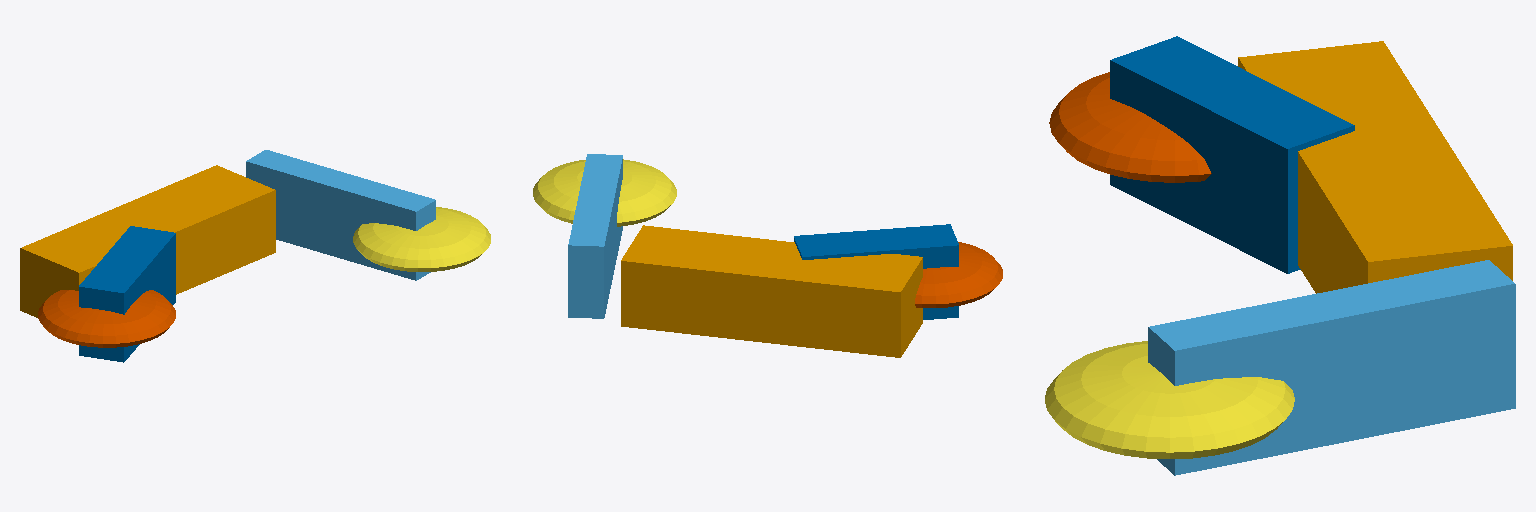
robot.urdf — sttw_source_contract:
<robot name="sttw_source_contract"><link name="chasis"><inertial><origin xyz="0 0 0" rpy="0 0 0" /><mass value="2.6709" /><inertia ixx="0.002576899237716139" iyy="0.006717399205490904" izz="0.007323301556792965" ixy="-0.0010382994717121627" ixz="-6.738700644442851e-05" iyz="-2.9357445489999094e-05" /></inertial><collision><origin xyz="0 0.01 0" rpy="0 -0 0.26200065305629355" /><geometry><box size="0.40000000000000002 0.12 0.10000000000000001" /></geometry></collision><visual><origin xyz="0 0.01 0" rpy="0 -0 0.26200065305629355" /><geometry><box size="0.40000000000000002 0.12 0.10000000000000001" /></geometry></visual></link><link name="frontfork"><inertial><origin xyz="0.015592999999999999 -0.028725000000000001 0" rpy="0 0 0" /><mass value="0.60059" /><inertia ixx="0.0006527803125101705" iyy="0.00031547968748982914" izz="0.0004482599999999998" ixy="3.1108087729306906e-06" ixz="0.0" iyz="0.0" /></inertial><collision><origin xyz="0.02 -0.059999999999999998 0" rpy="0 -0 0" /><geometry><box size="0.050000000000000003 0.29999999999999999 0.11" /></geometry></collision><visual><origin xyz="0.02 -0.059999999999999998 0" rpy="0 -0 0" /><geometry><box size="0.050000000000000003 0.29999999999999999 0.11" /></geometry></visual></link><joint name="steering_joint" type="revolute"><parent link="chasis" /><child link="frontfork" /><origin xyz="0.25737845898069134 0.020893999999999999 0" rpy="0 -0 0.43632916471688082" /><axis xyz="0 1 0" /><limit effort="1000" velocity="1000" lower="-0.8" upper="0.8" /><dynamics damping="0" friction="0" /></joint><link name="frontsuspension"><inertial><origin xyz="0 0.012836 0" rpy="0 0 0" /><mass value="0.13737" /><inertia ixx="6.8261e-05" iyy="6.1561e-05" izz="1.4167e-05" ixy="0.0" ixz="0.0" iyz="0.0" /></inertial><collision><origin xyz="0 0.02 0" rpy="0 -0 0" /><geometry><box size="0.029999999999999999 0.050000000000000003 0.10000000000000001" /></geometry></collision><visual><origin xyz="0 0.02 0" rpy="0 -0 0" /><geometry><box size="0.029999999999999999 0.050000000000000003 0.10000000000000001" /></geometry></visual></link><joint name="frontsuspension_fixed" type="fixed"><parent link="frontfork" /><child link="frontsuspension" /><origin xyz="0.02 -0.20268 0" rpy="0 -0 0" /></joint><link name="frontwheel"><inertial><origin xyz="0 0 0" rpy="0 0 0" /><mass value="0.47237" /><inertia ixx="0.0010678" iyy="0.0010677" izz="0.002032" ixy="0.0" ixz="0.0" iyz="0.0" /></inertial><collision><origin xyz="0 0 0" rpy="0 -0 0" /><geometry><mesh filename="ellipsoid_0.1_0.1_0.025.obj" /></geometry></collision><visual><origin xyz="0 0 0" rpy="0 -0 0" /><geometry><mesh filename="ellipsoid_0.1_0.1_0.025.obj" /></geometry></visual></link><joint name="frontwheel_joint" type="continuous"><parent link="frontsuspension" /><child link="frontwheel" /><origin xyz="0 0 0" rpy="0 0 -0.43632916471688082" /><axis xyz="0 0 1" /><limit effort="1000" velocity="1000" /><dynamics damping="0" friction="0" /></joint><link name="rearsuspension"><inertial><origin xyz="-0.11047 -0.091964000000000004 0" rpy="0 0 0" /><mass value="0.83342" /><inertia ixx="0.000932891239514924" iyy="0.001050602340954752" izz="0.001595099419530325" ixy="-0.0005954418866728583" ixz="4.176125784751369e-07" iyz="3.218152647424885e-07" /></inertial><collision><origin xyz="-0.080000000000000002 -0.070000000000000007 0" rpy="0 -0 0.7000001648141263" /><geometry><box size="0.22 0.070000000000000007 0.11" /></geometry></collision><visual><origin xyz="-0.080000000000000002 -0.070000000000000007 0" rpy="0 -0 0.7000001648141263" /><geometry><box size="0.22 0.070000000000000007 0.11" /></geometry></visual></link><joint name="rearsuspension_joint" type="revolute"><parent link="chasis" /><child link="rearsuspension" /><origin xyz="-0.020438000000000001 -0.034414 0" rpy="0 -0 0" /><axis xyz="0 0 1" /><limit effort="1000" velocity="1000" lower="-0.05" upper="0.05" /><dynamics damping="0" friction="0" /></joint><link name="rearwheel"><inertial><origin xyz="0 0 0" rpy="0 0 0" /><mass value="0.71956" /><inertia ixx="0.0011423999999999996" iyy="0.0011425999999999995" izz="0.002173799999999999" ixy="0.0" ixz="0.0" iyz="0.0" /></inertial><collision><origin xyz="0 0 0" rpy="0 -0 0" /><geometry><mesh filename="ellipsoid_0.1_0.1_0.025.obj" /></geometry></collision><visual><origin xyz="0 0 0" rpy="0 -0 0" /><geometry><mesh filename="ellipsoid_0.1_0.1_0.025.obj" /></geometry></visual></link><joint name="rearwheel_joint" type="continuous"><parent link="rearsuspension" /><child link="rearwheel" /><origin xyz="-0.14050000000000001 -0.11609 0" rpy="0 -0 0" /><axis xyz="0 0 1" /><limit effort="1000" velocity="1000" /><dynamics damping="0" friction="0" /></joint></robot>

--- Render facts (derived) ---
3 views of the same robot in one strip: view 1: azimuth 30°, elevation 25°; view 2: azimuth 150°, elevation 25°; view 3: azimuth 270°, elevation 25° (orthographic).
Robot: sttw_source_contract — 6 links, 5 joints (2 revolute, 2 continuous, 1 fixed); root link chasis; default pose: all joints at 0.
Visible links, largest first — view 1: chasis, frontfork, rearsuspension, frontwheel, rearwheel; view 2: chasis, frontfork, rearsuspension, frontwheel, rearwheel; view 3: frontfork, chasis, rearsuspension, frontwheel, rearwheel.
Link boxes in pixels (x1,y1,x2,y2): chasis: [20, 165, 275, 317]; frontfork: [246, 150, 435, 280]; rearsuspension: [79, 226, 175, 362]; frontwheel: [353, 207, 490, 271]; rearwheel: [38, 290, 175, 347]; chasis: [621, 225, 922, 357]; frontfork: [568, 154, 622, 318]; rearsuspension: [794, 224, 958, 319]; frontwheel: [533, 159, 676, 226]; rearwheel: [915, 242, 1002, 307]; frontfork: [1148, 260, 1515, 475]; chasis: [1238, 41, 1512, 293]; rearsuspension: [1110, 36, 1354, 273]; frontwheel: [1045, 341, 1294, 458]; rearwheel: [1049, 72, 1211, 182].
Size in the robot's own frame: 0.7221 by 0.3758 by 0.11 metres.
2 mesh visuals loaded from 1 distinct referenced files (1 OBJ).
